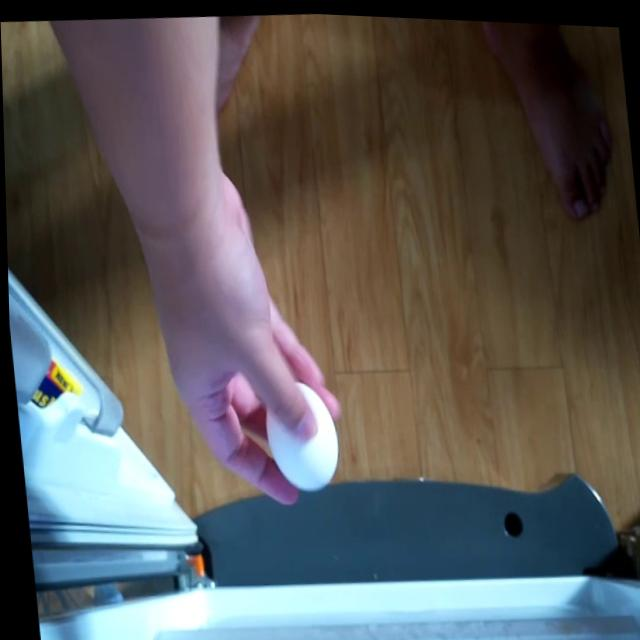egg: (261, 381, 339, 495)
